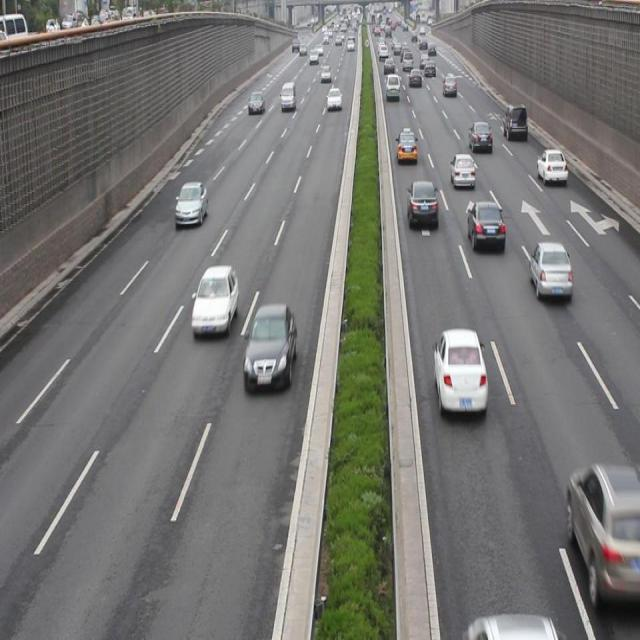car: (567, 463, 640, 598), (242, 303, 295, 390), (432, 328, 486, 412), (192, 264, 238, 336), (529, 239, 571, 300), (466, 200, 505, 254), (174, 180, 208, 228), (407, 180, 437, 229), (534, 147, 566, 182), (448, 150, 475, 191), (503, 102, 528, 141), (467, 120, 492, 152), (395, 130, 418, 163)
